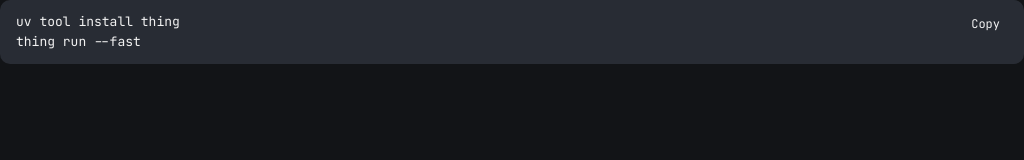
Test: CodeBlock › switches the label from copyLabel to copiedLabel after copying
The width and height of the screenshot is (1024, 160).
Click the button at (986, 24), box [963, 12, 1008, 36]
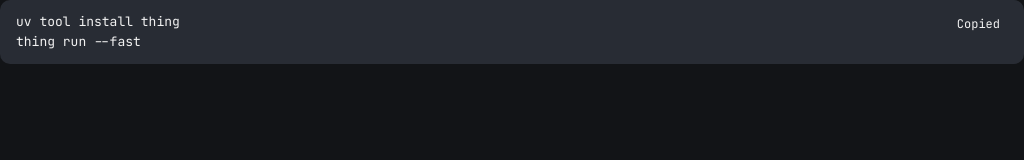
Now the button reads "Copied", box [949, 12, 1008, 36]
